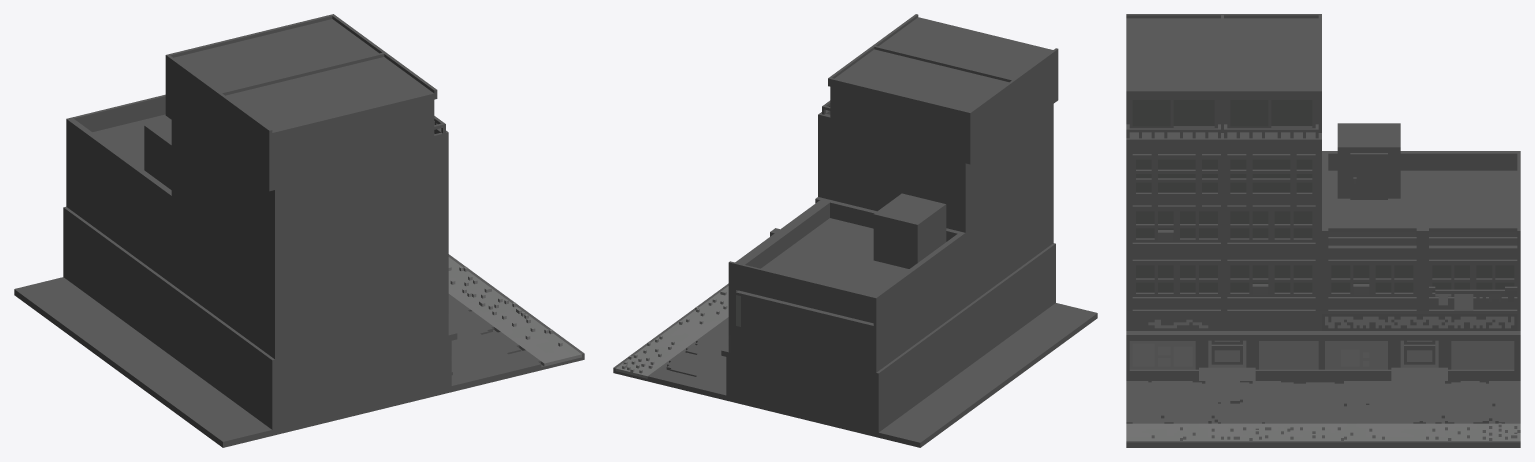
The model's file is kfarr_bases_valencia_store-1-3.obj.
The picture shows the model from 3 angles, left to right: view 1: azimuth 30°, elevation 25°; view 2: azimuth 150°, elevation 25°; view 3: azimuth 270°, elevation 25°; orthographic projection. The views are drawn at different scales.
Bounding box in the file's own units: 125 × 101 × 125.
